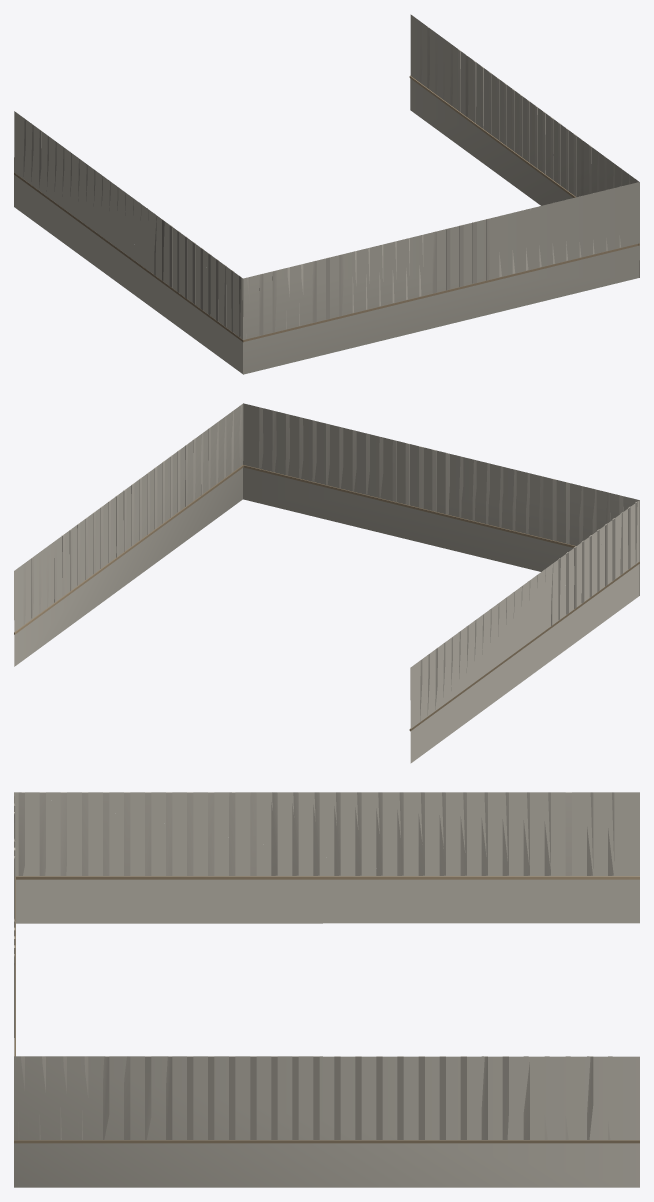
File: home_wallpaper__cream_low.glb
The picture shows the model from 3 angles, top to bottom: view 1: azimuth 30°, elevation 25°; view 2: azimuth 150°, elevation 25°; view 3: azimuth 270°, elevation 25°; orthographic projection. The views are drawn at different scales.
Size of the model in its own units: 11.9 by 2.75 by 11.9.
